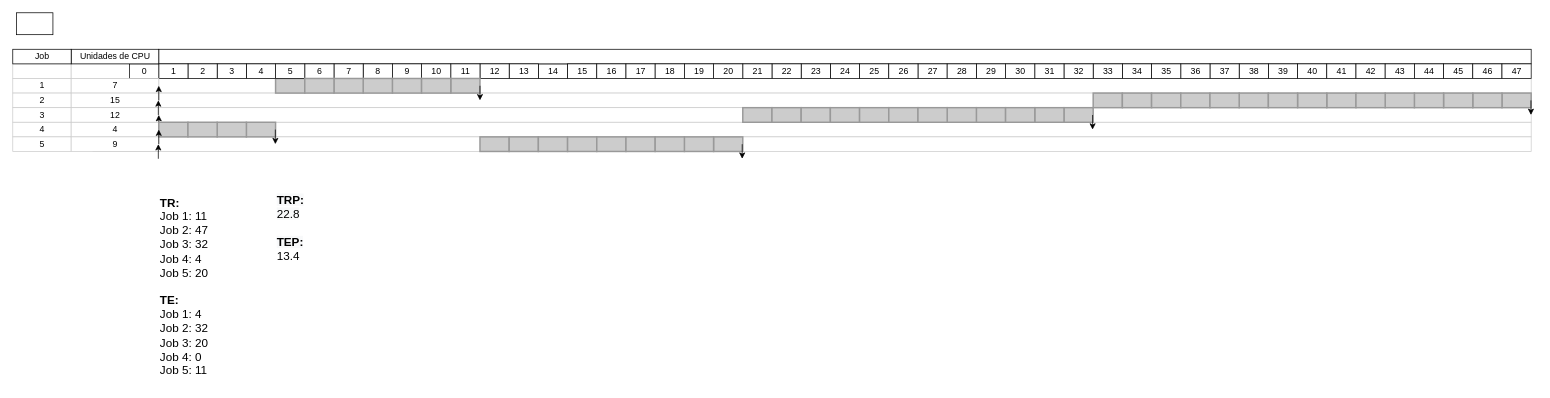
Some shapes in this 1550 by 398 pixel diagram are drawn without their labels. Each missing label, with the centre of its shape:
Instante de tiempo: the point at 844,56
SJF: the point at 34,23
